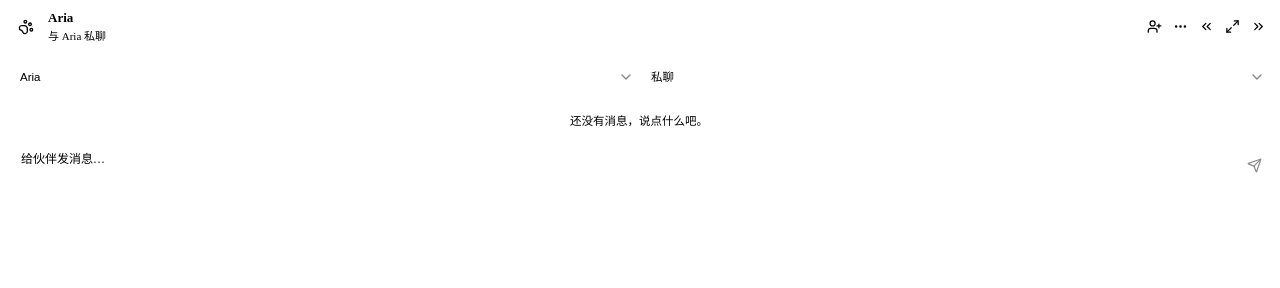
companion chat › shows the real run failure and never a fabricated companion reply
Type "hello" into the text box with class "companion-input".
click(623, 165); type("hello")  # box [12,146,1234,184]
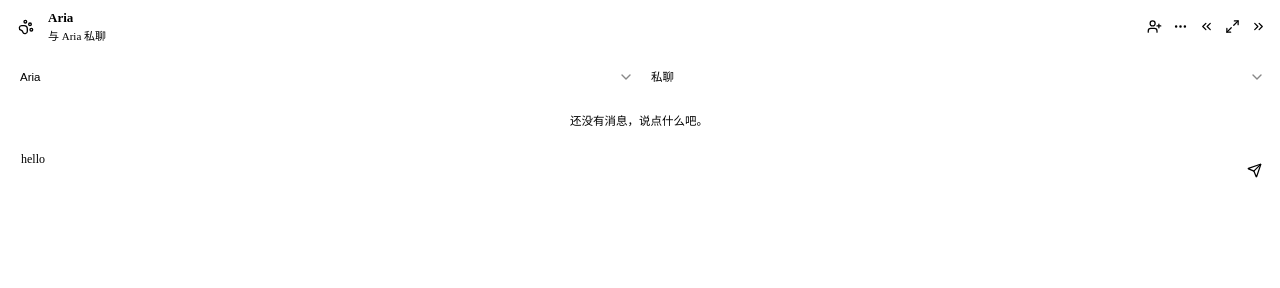
Submit the form with class "companion-composer", box [0,138,1279,204]
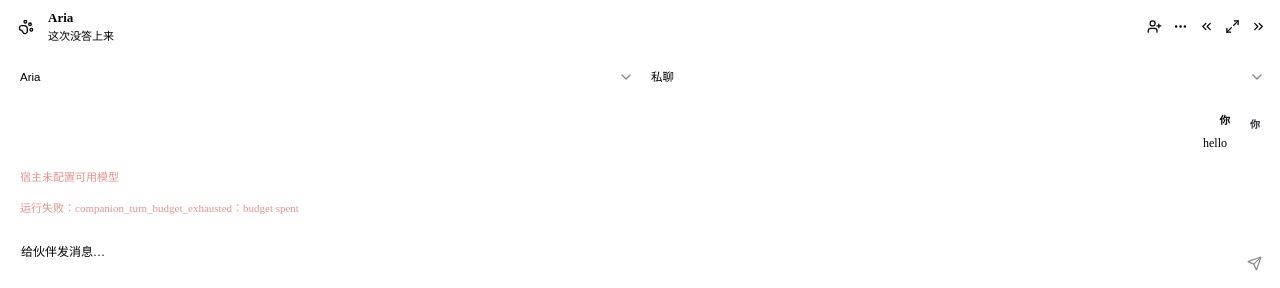
Now the text with class "companion-run--failed" reads "宿主未配置可用模型", box [20,171,119,183]
